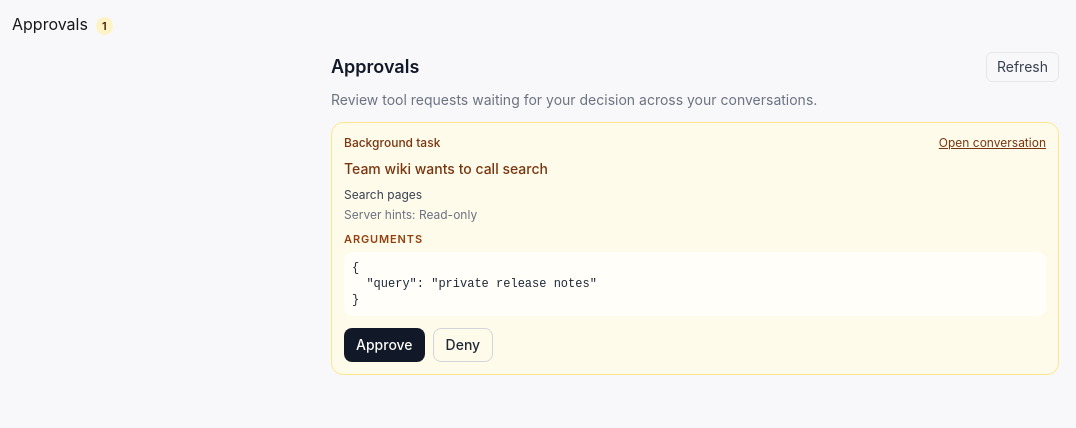
Test: owner tool approvals › keeps the queue through a read failure and allows a refresh retry
Expected: the text "Team wiki wants to call search" is shown, [344,160,548,177]
Click the button "Refresh" at (1022, 67), box [986,52,1059,82]
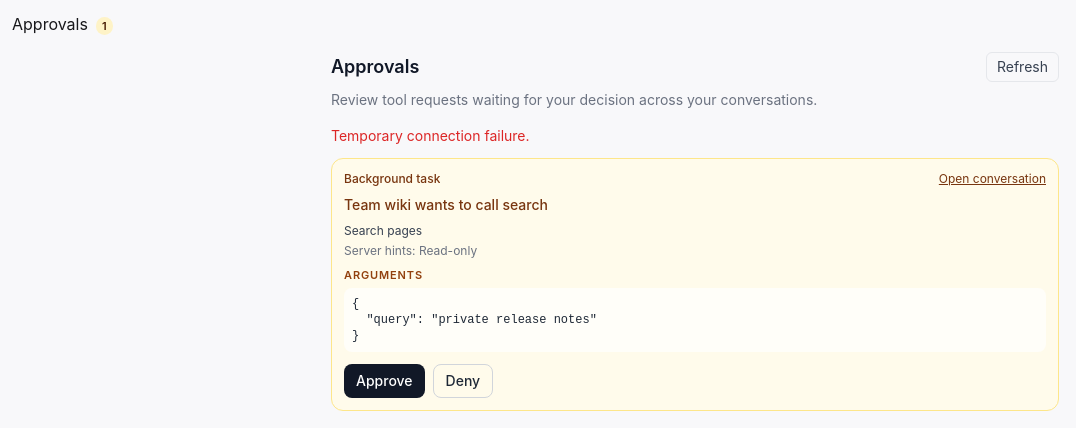
Expected: the button "Approve" is enabled, [344,364,425,398]
Now the message reads "Temporary connection failure.", box [331,127,530,144]
Click the button "Refresh" at (1022, 67), box [986,52,1059,82]
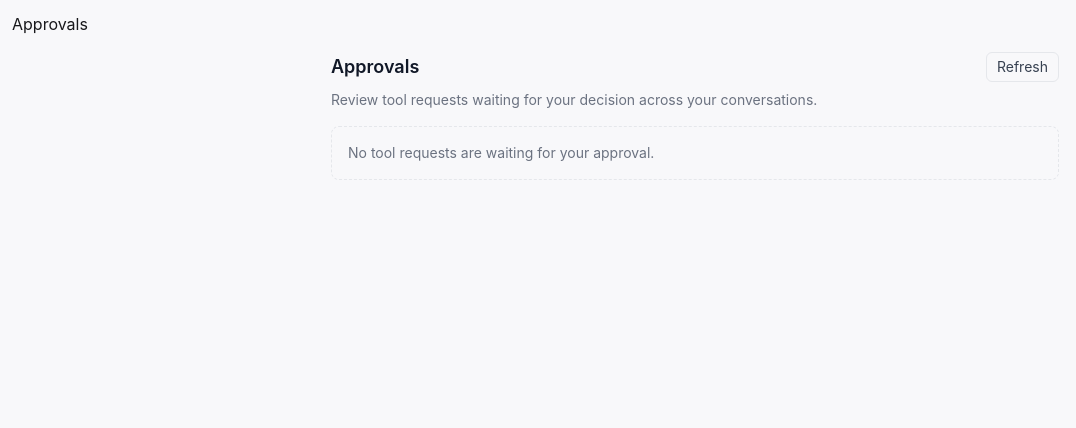
Now the text "No tool requests are waiting for your approval." is shown, box [331,126,1059,180]
Now the message "Temporary connection failure." is gone
